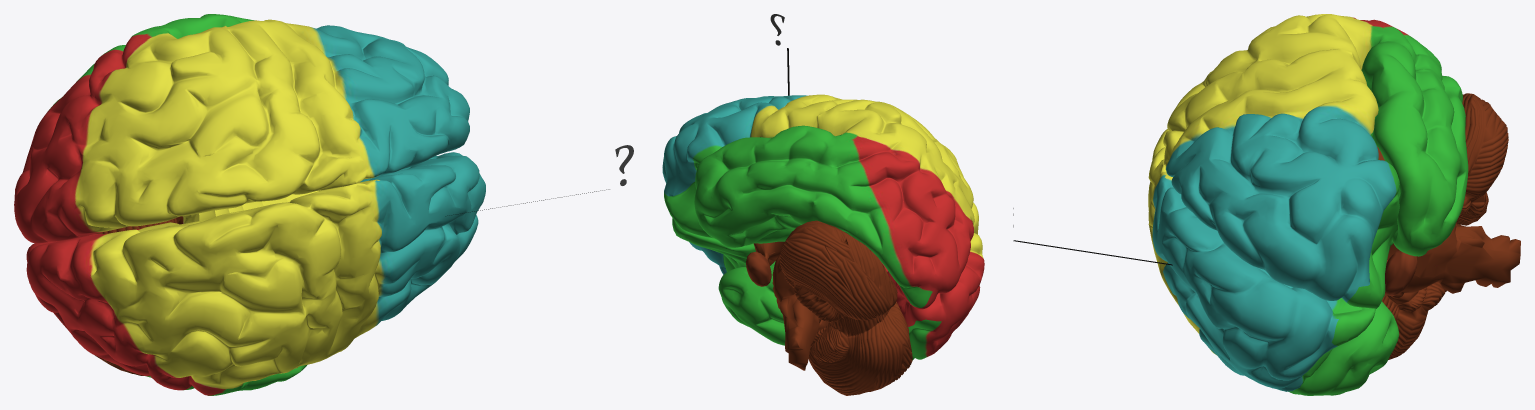
The picture shows the model from 3 angles, left to right: view 1: azimuth 30°, elevation 25°; view 2: azimuth 150°, elevation 25°; view 3: azimuth 270°, elevation 25°; orthographic projection. The views are drawn at different scales.
Visible parts, largest first — view 1: Brain_Part_04, Brain_Part_06; view 2: Brain_Part_04, Brain_Part_02, Brain_Part_06, Brain_Part_05, Brain_Part_01; view 3: Brain_Part_04, Brain_Part_06, Brain_Part_02, Brain_Part_05, Brain_Part_01.
Boxes of the visible parts, x1,y1,x2,y2 form: Brain_Part_04: [14, 14, 469, 243]; Brain_Part_06: [26, 152, 485, 395]; Brain_Part_04: [662, 94, 974, 309]; Brain_Part_02: [780, 220, 912, 395]; Brain_Part_06: [672, 203, 984, 360]; Brain_Part_05: [753, 241, 821, 370]; Brain_Part_01: [746, 251, 771, 286]; Brain_Part_04: [1163, 14, 1468, 308]; Brain_Part_06: [1148, 129, 1399, 395]; Brain_Part_02: [1382, 93, 1508, 359]; Brain_Part_05: [1377, 147, 1520, 298]; Brain_Part_01: [1385, 250, 1417, 296].
Size of the model in its own units: 0.1709 by 0.1331 by 0.1791.
3 materials, 1 textured.
